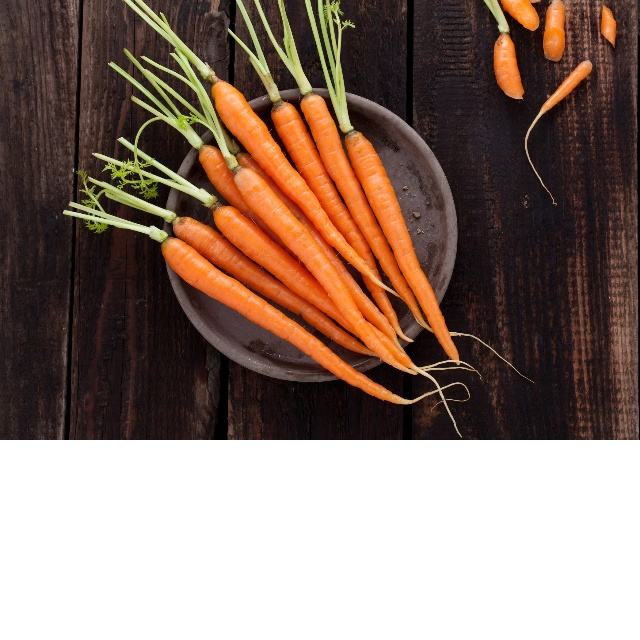ca_rot: (162, 238, 415, 406), (212, 81, 404, 298), (234, 169, 415, 375), (271, 101, 415, 342), (213, 207, 414, 367), (301, 93, 435, 332), (171, 217, 380, 358), (345, 131, 463, 367), (199, 144, 238, 207)
